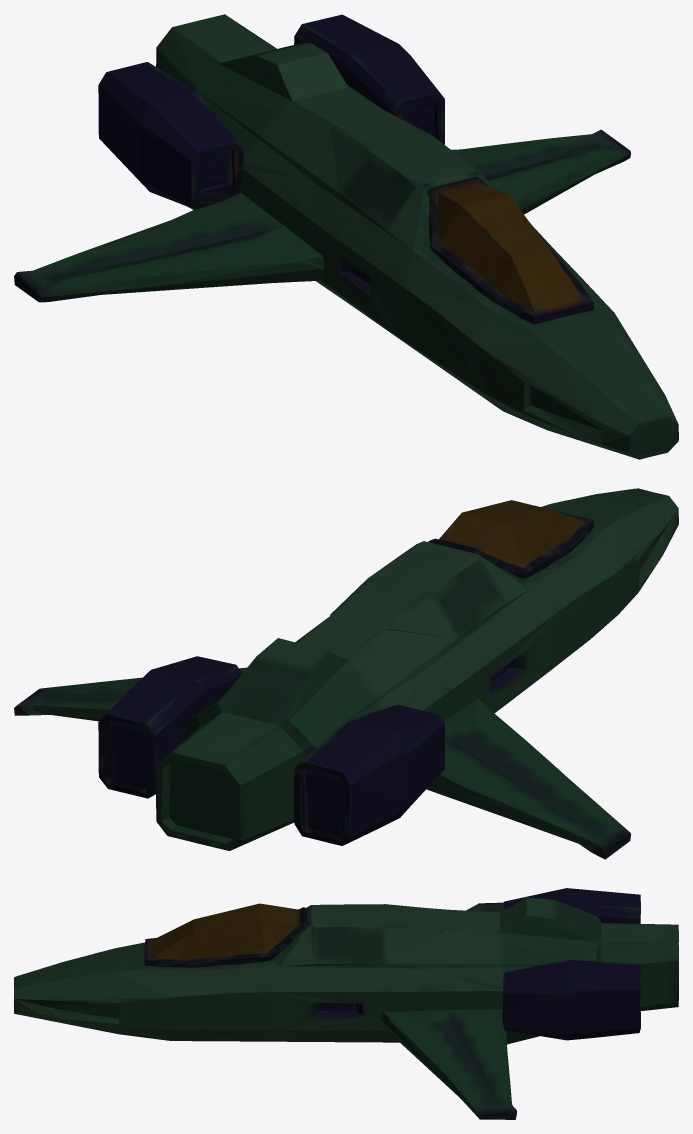
3 renders of one model, top to bottom at view 1: azimuth 30°, elevation 25°; view 2: azimuth 150°, elevation 25°; view 3: azimuth 270°, elevation 25°, orthographic. The views are drawn at different scales.
Visible parts, largest first — view 1: world; view 2: world; view 3: world.
Part boxes in pixels (bbox=[...]): world: bbox=[14, 14, 678, 459]; world: bbox=[14, 488, 678, 859]; world: bbox=[14, 888, 678, 1119].
Bounding box in the file's own units: 0.7518 × 0.2045 × 1.
Materials: 1 (1 with a texture image).
